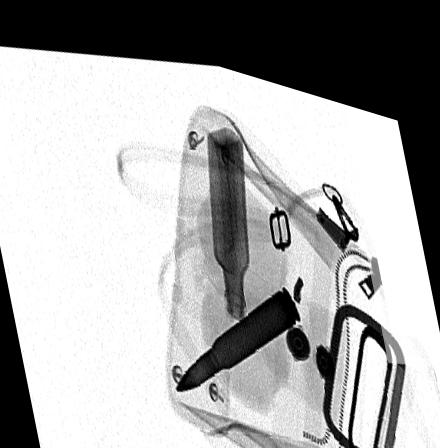Bullet: (172, 266, 301, 381)
